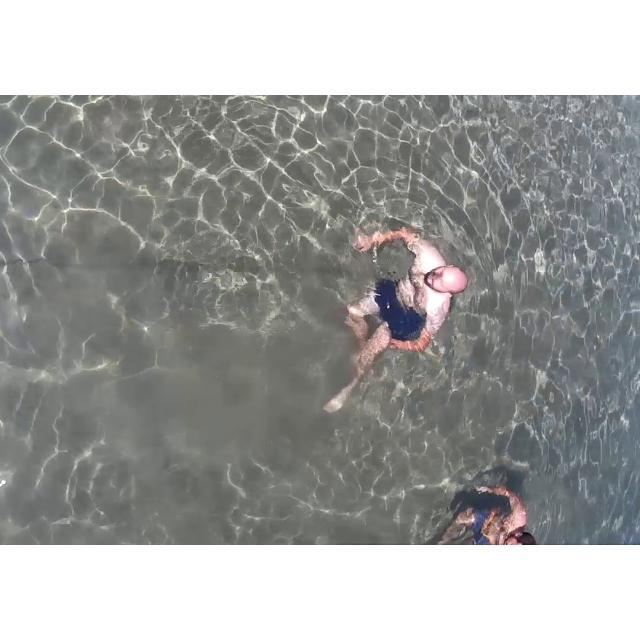human: (320, 206, 469, 426)
